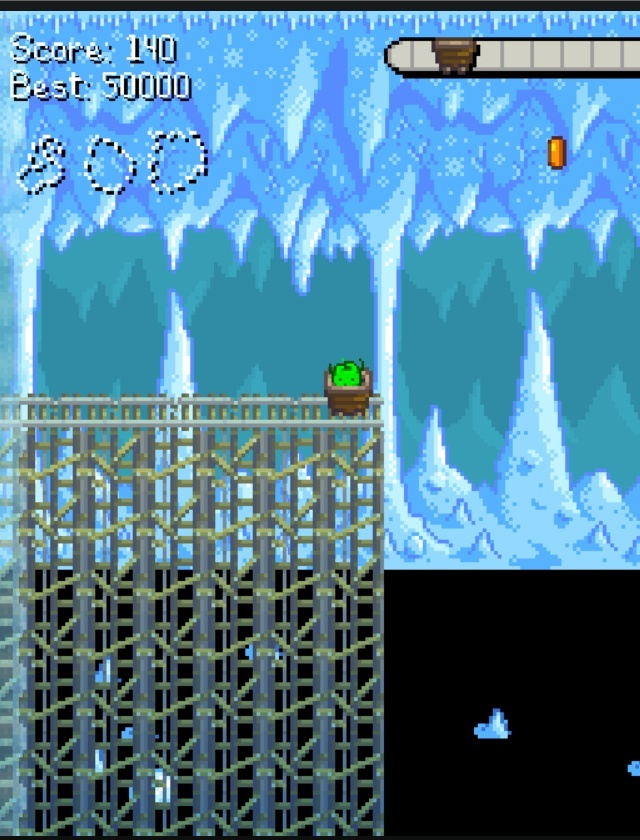coins: (548, 136, 566, 169)
minecart: (324, 361, 370, 413)
tracks: (0, 389, 320, 434)
